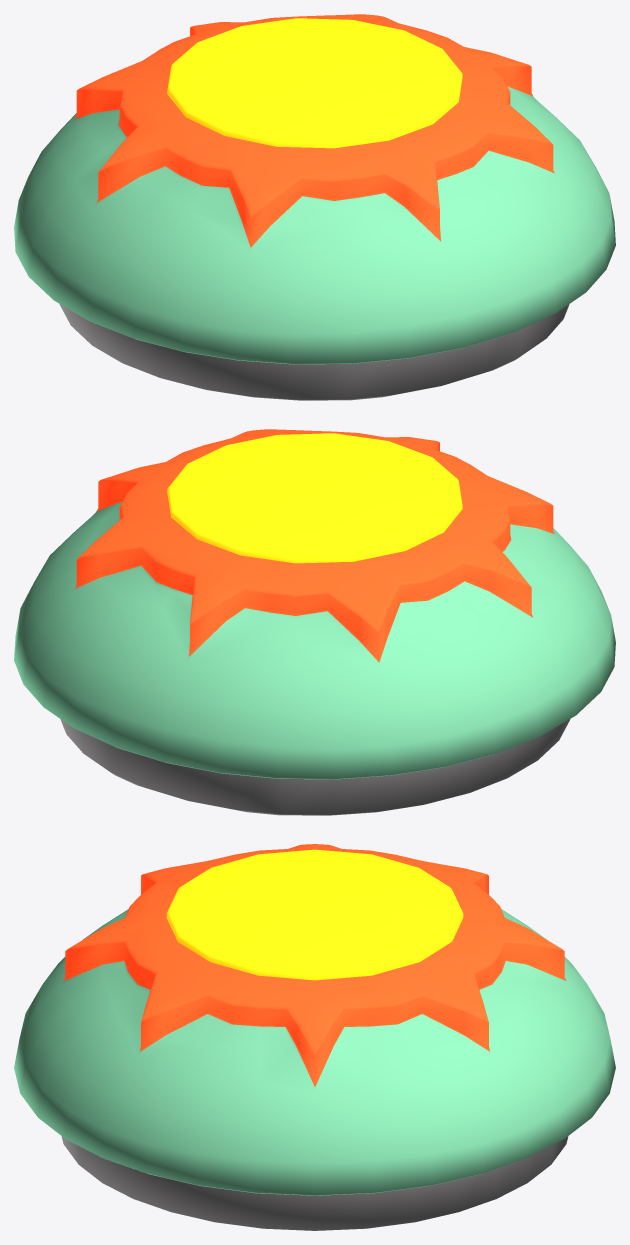
The model's file is Bumper.fbx.
3 renders of one model, top to bottom at view 1: azimuth 30°, elevation 25°; view 2: azimuth 150°, elevation 25°; view 3: azimuth 270°, elevation 25°, orthographic.
Visible parts, largest first — view 1: Bumper_base, Bumper_points, Bumper_top, Bumper_base.001; view 2: Bumper_base, Bumper_points, Bumper_top, Bumper_base.001; view 3: Bumper_base, Bumper_points, Bumper_top, Bumper_base.001.
Part boxes in pixels (left/top/right/bottom): Bumper_base: left=14, top=86, right=615, bottom=364; Bumper_points: left=75, top=14, right=554, bottom=247; Bumper_top: left=167, top=18, right=462, bottom=148; Bumper_base.001: left=59, top=304, right=569, bottom=400; Bumper_base: left=14, top=501, right=615, bottom=779; Bumper_points: left=75, top=429, right=554, bottom=662; Bumper_top: left=167, top=433, right=462, bottom=563; Bumper_base.001: left=60, top=719, right=570, bottom=815; Bumper_base: left=14, top=909, right=615, bottom=1195; Bumper_points: left=63, top=844, right=566, bottom=1086; Bumper_top: left=166, top=849, right=463, bottom=980; Bumper_base.001: left=61, top=1136, right=568, bottom=1230.
Bounding box in the file's own units: 185 × 76.48 × 185.
